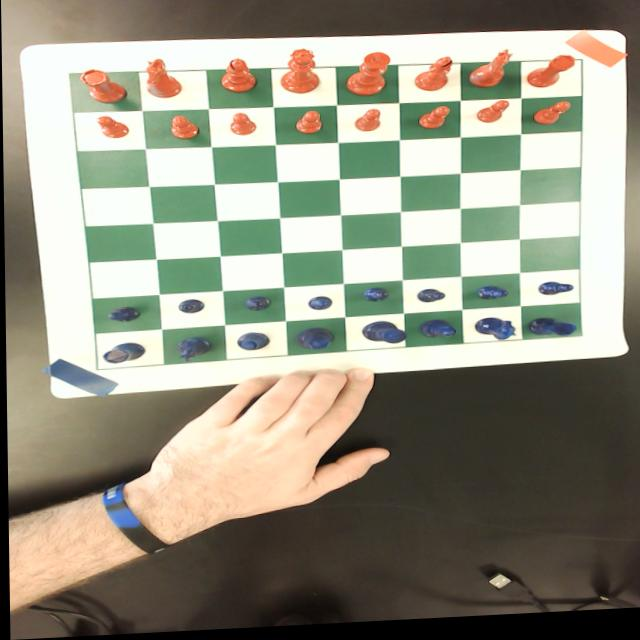B: (418, 323, 454, 344), (234, 334, 269, 354)
K: (358, 324, 407, 350)
N: (472, 322, 517, 347), (175, 339, 210, 365)
P: (535, 286, 573, 302), (104, 307, 139, 324), (415, 292, 445, 309), (475, 291, 507, 306), (241, 299, 269, 315), (175, 301, 203, 317), (361, 291, 388, 307), (306, 299, 332, 314)
Q: (294, 330, 332, 354)
R: (528, 321, 576, 345), (102, 344, 145, 366)
b: (214, 60, 257, 96), (414, 61, 452, 97)
k: (341, 56, 390, 100)
n: (466, 54, 513, 95), (139, 60, 183, 102)
p: (531, 106, 571, 132), (94, 116, 130, 140), (474, 105, 509, 129), (416, 110, 451, 134), (167, 116, 199, 142), (352, 112, 381, 137), (228, 115, 257, 140), (293, 113, 321, 138)
q: (277, 52, 319, 98)
r: (77, 68, 127, 106), (524, 60, 575, 94)
